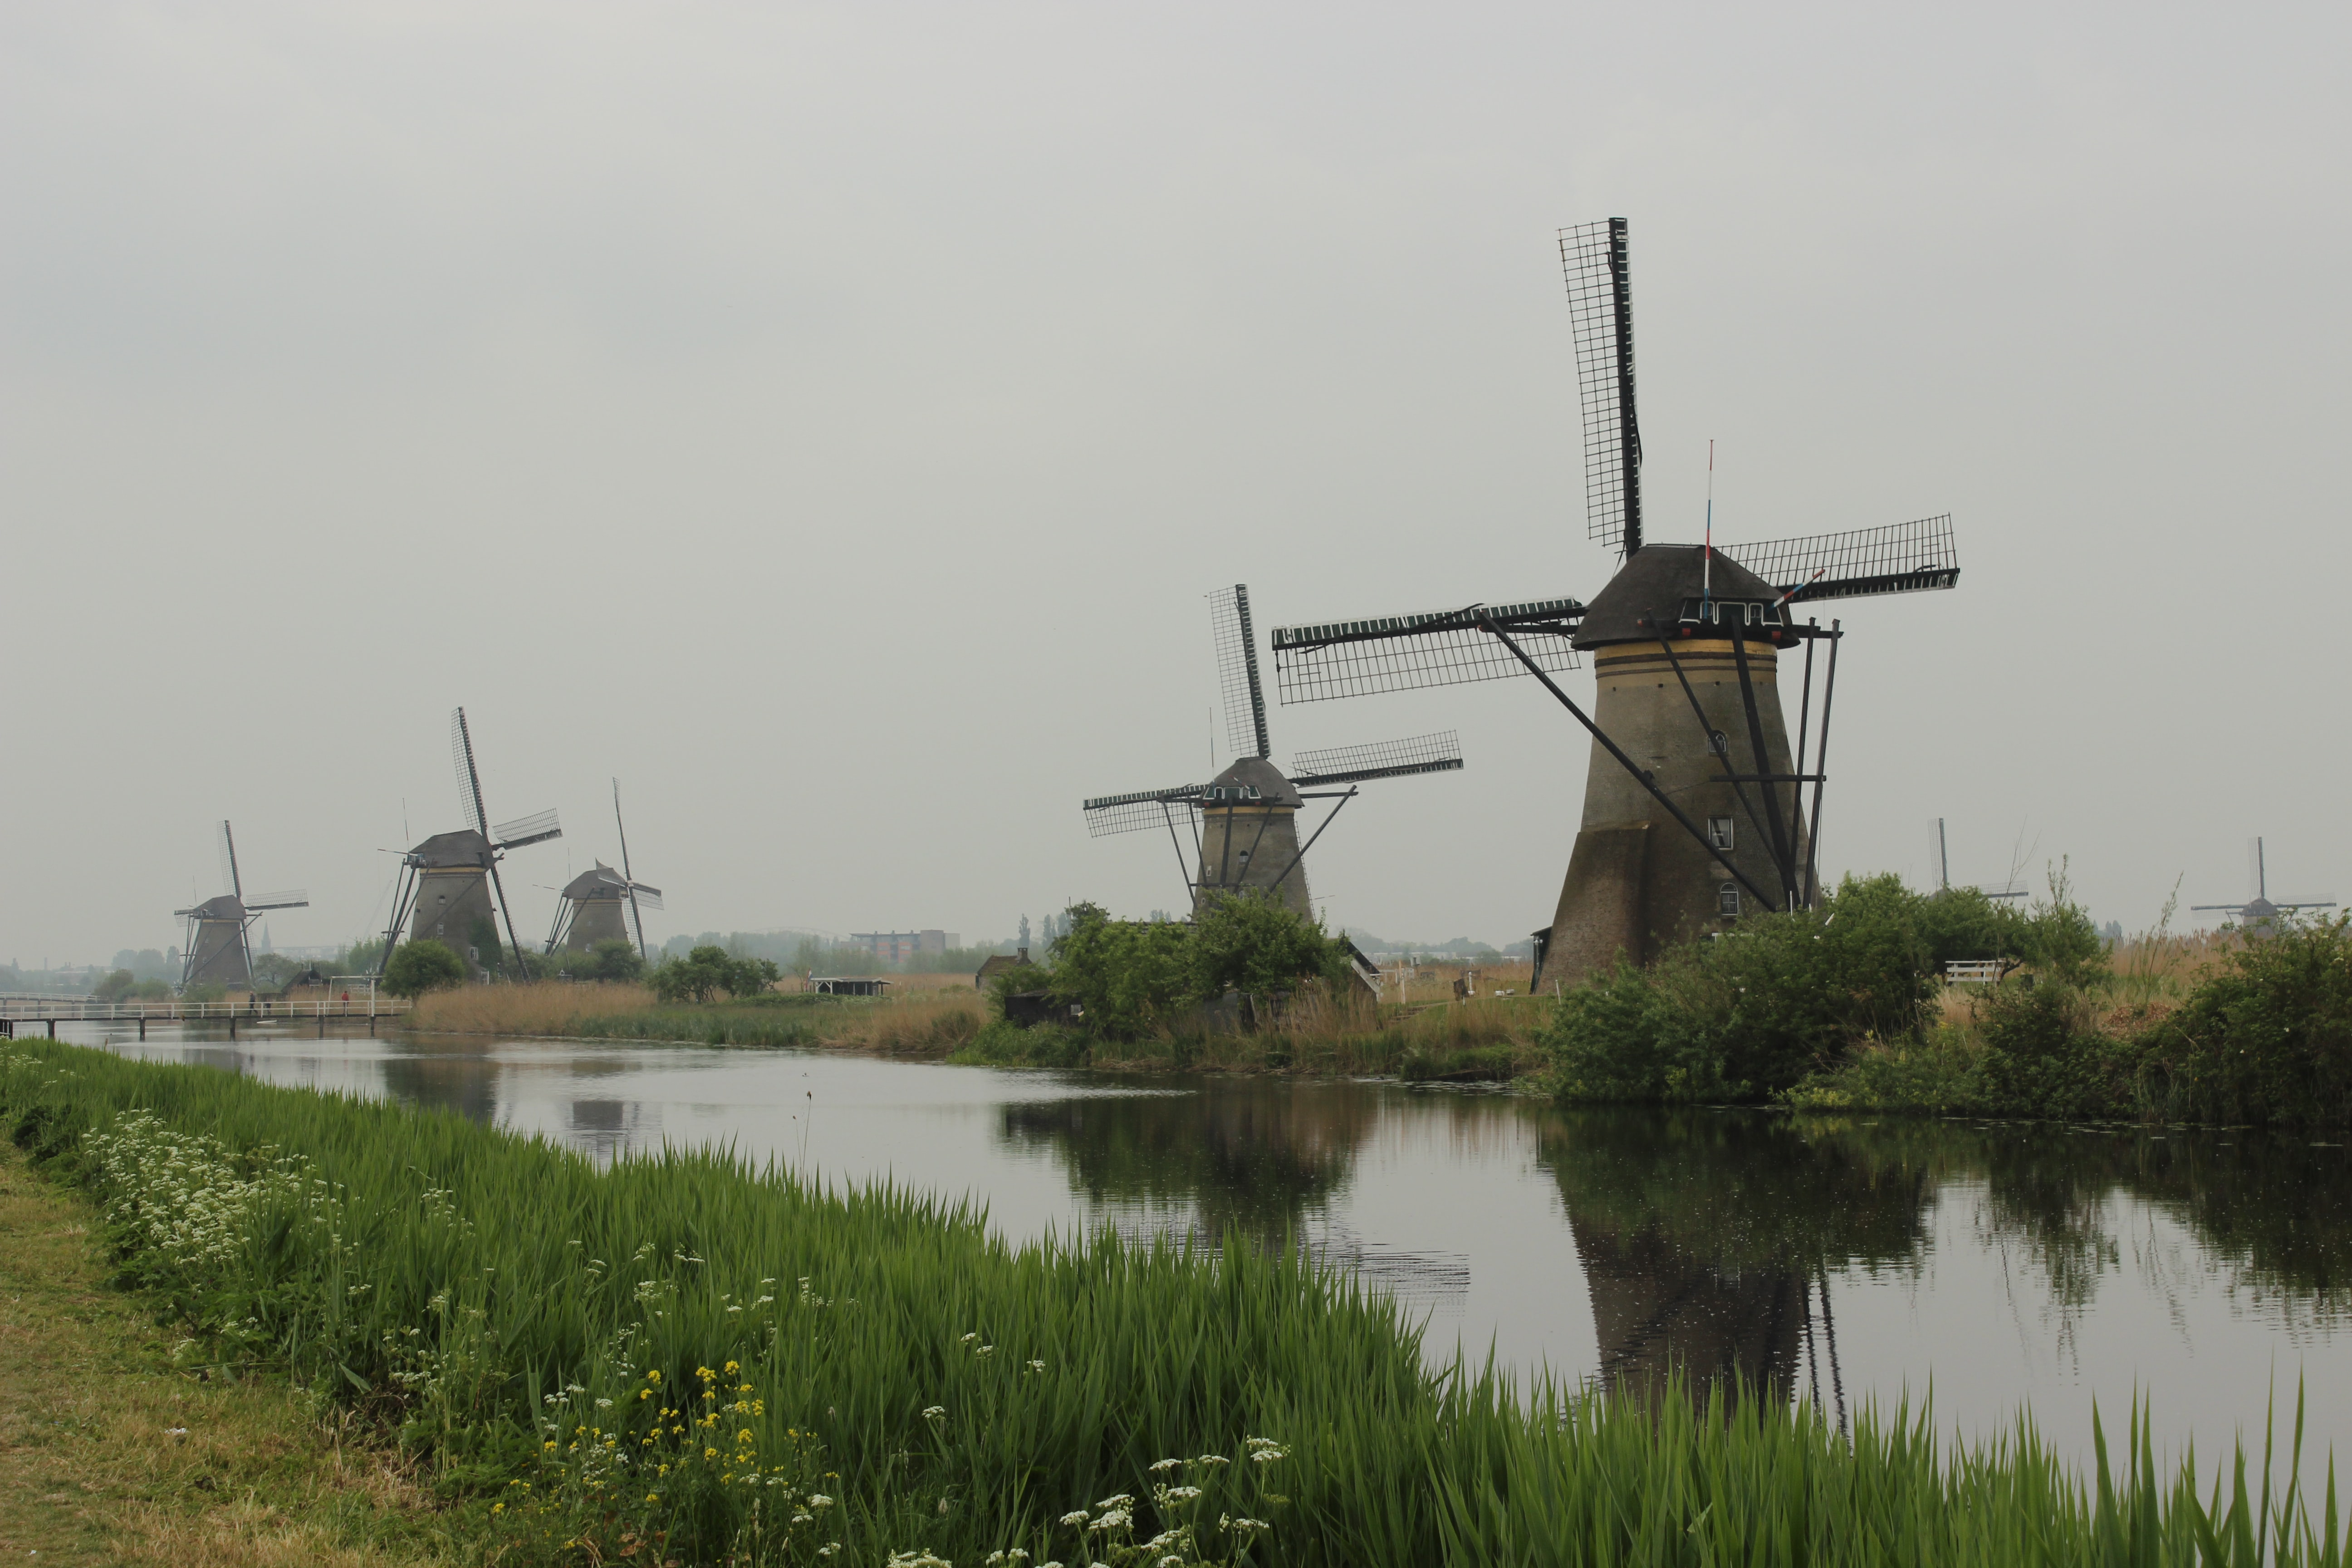working: (1269, 203, 1981, 742)
